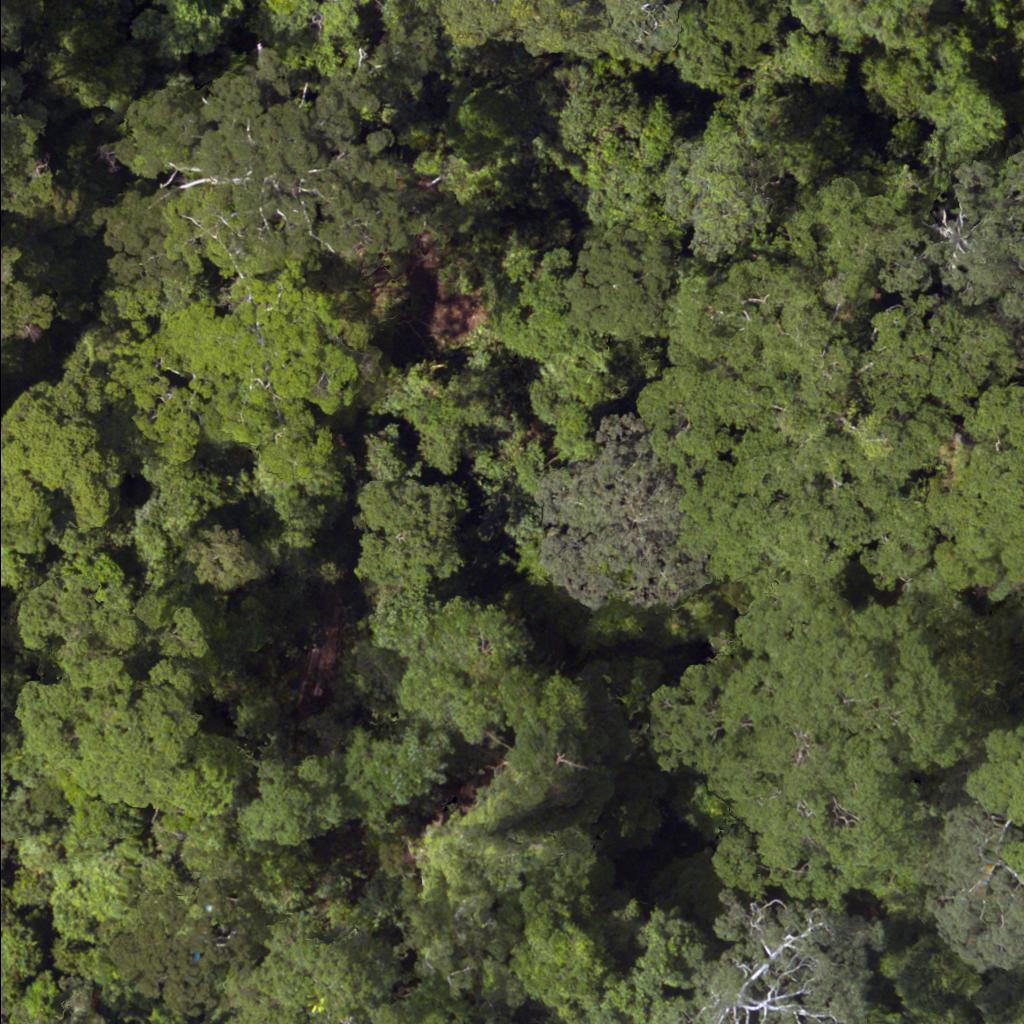crown: (661, 609, 958, 897), (20, 654, 243, 818), (664, 893, 876, 1023), (224, 922, 396, 1023), (935, 815, 1023, 961), (990, 722, 1023, 815), (1023, 852, 1023, 854)
